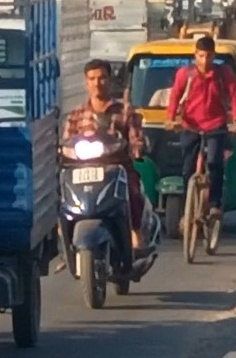BikeWithRider: (48, 54, 165, 311), (160, 30, 236, 266)
NoHelmet: (77, 56, 117, 101), (188, 32, 220, 73)
